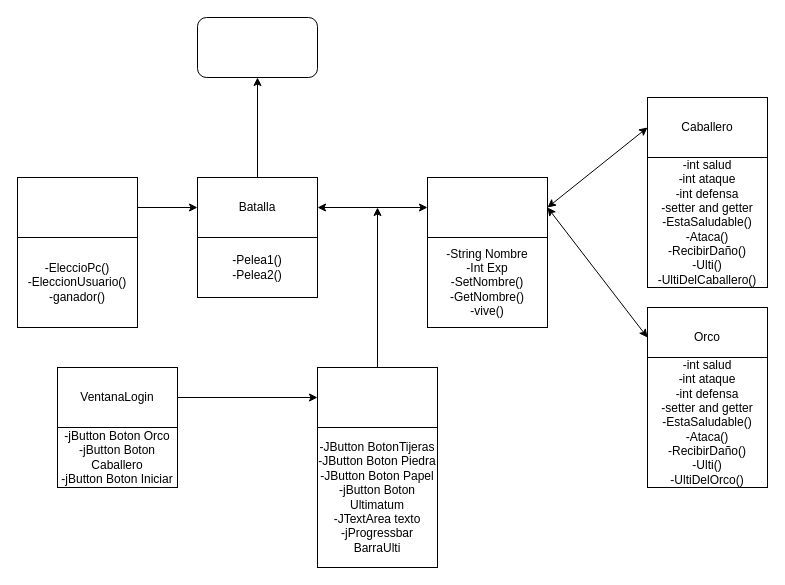
The diagram is 785 pixels wide and 585 high, and some of its shapes have lost their labels. The centre of each missing label's shape, as x and y in pixels:
"Personajes" goes at point 487,207.
"Piedra, Papel o Tijeras" goes at point 77,207.
"PRACTICO" goes at point 257,47.
"Ventana" goes at point 377,397.
